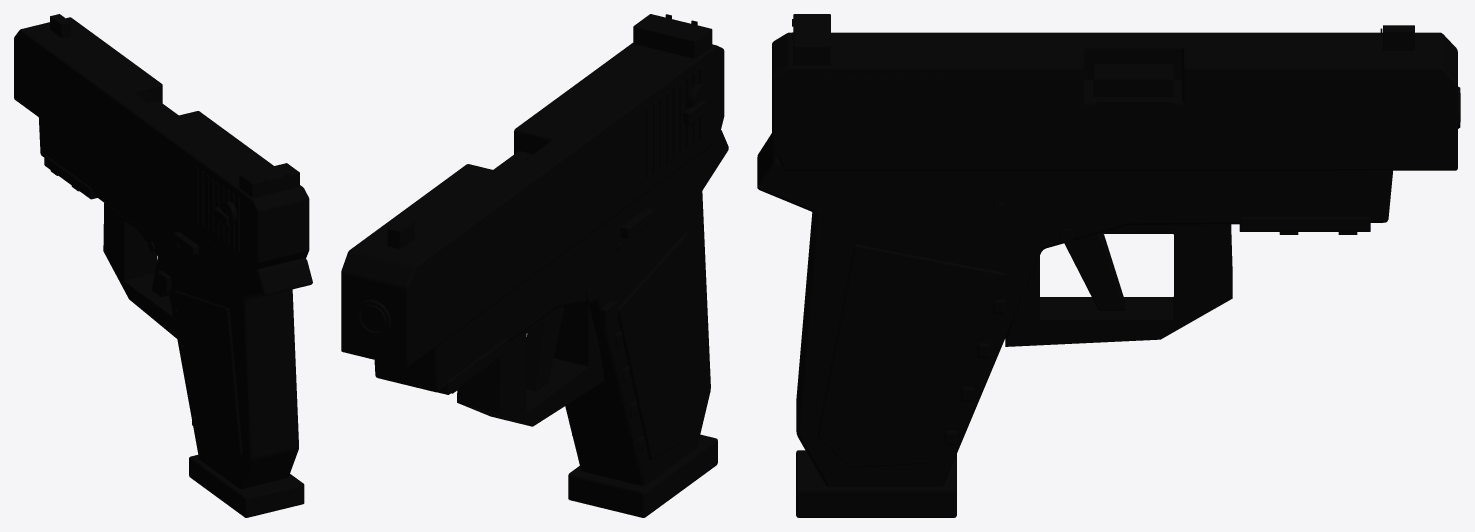
File: glock.glb
The picture shows the model from 3 angles, left to right: view 1: azimuth 30°, elevation 25°; view 2: azimuth 150°, elevation 25°; view 3: azimuth 270°, elevation 25°; orthographic projection. The views are drawn at different scales.
Parts seen in each view (by area): view 1: frame, slide; view 2: frame, slide; view 3: frame, slide.
Part boxes in pixels (x1,y1,x2,y2): frame: [38, 101, 312, 517]; slide: [14, 14, 309, 273]; frame: [357, 130, 728, 517]; slide: [341, 14, 724, 367]; frame: [757, 63, 1460, 517]; slide: [772, 14, 1457, 170].
Bounding box in the file's own units: 0.039 × 0.1942 × 0.2624.
5 materials, 5 textured.
